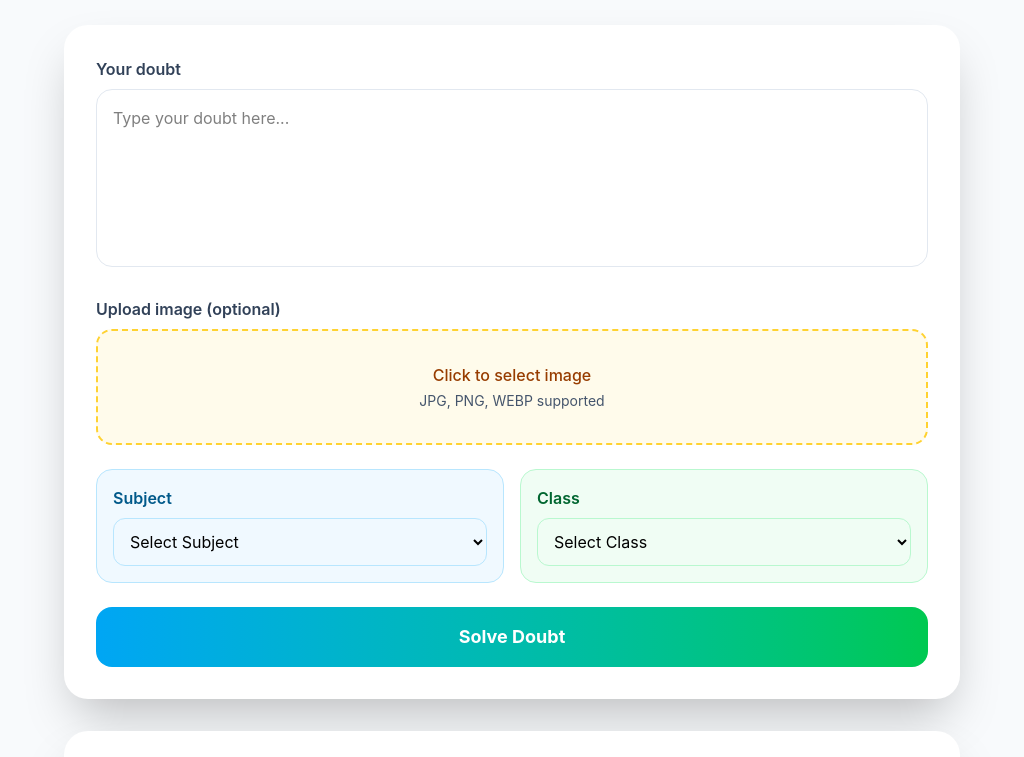
Test case: AskDoubt › shows API error state when solve fails
Expected: the button "Solve Doubt" is enabled, [96,607,928,667]
In the text box with placeholder "Type your doubt here...": (512, 178) [96,89,928,267], type "Hard question"
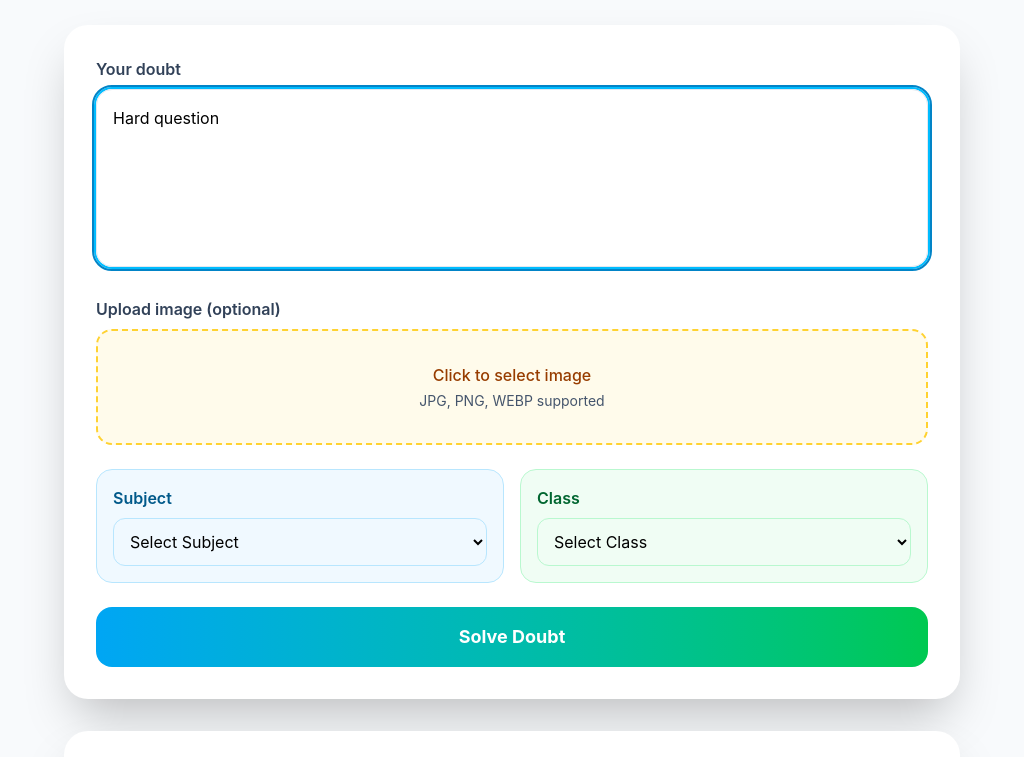
Select "Mathematics" in the dropdown labelled "Subject": (300, 542) [113,518,487,566]
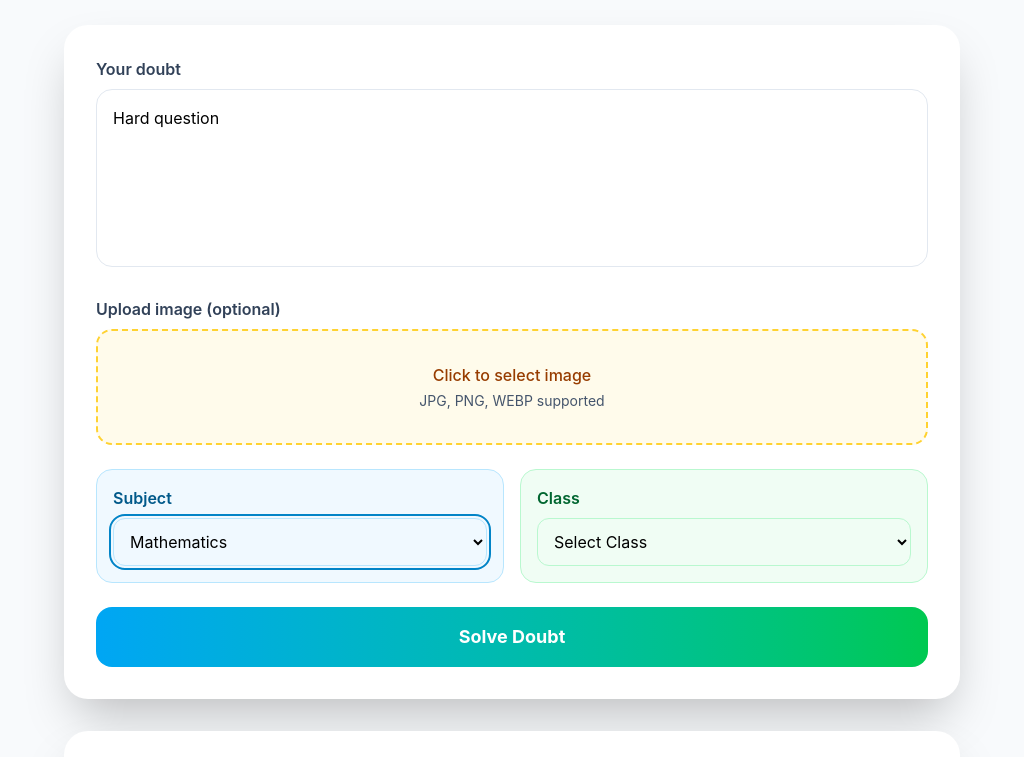
Select "Class 8" in the dropdown labelled "Class": (724, 542) [537,518,911,566]
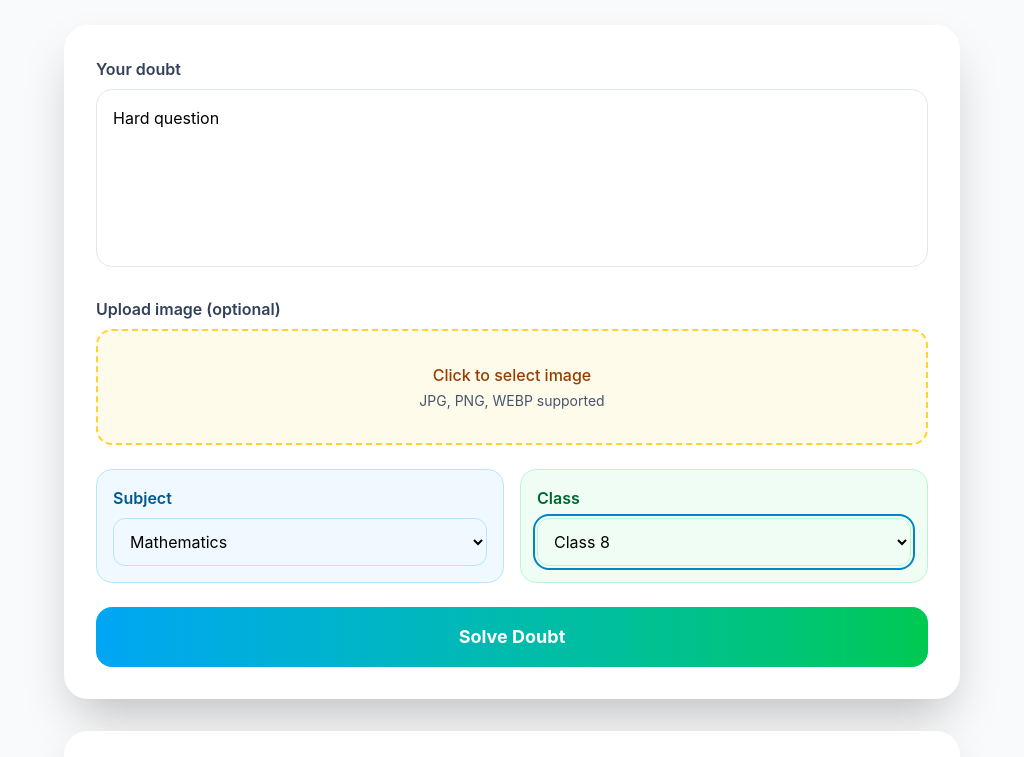
Click the button "Solve Doubt": (512, 637) [96,607,928,667]
(page scrolled)
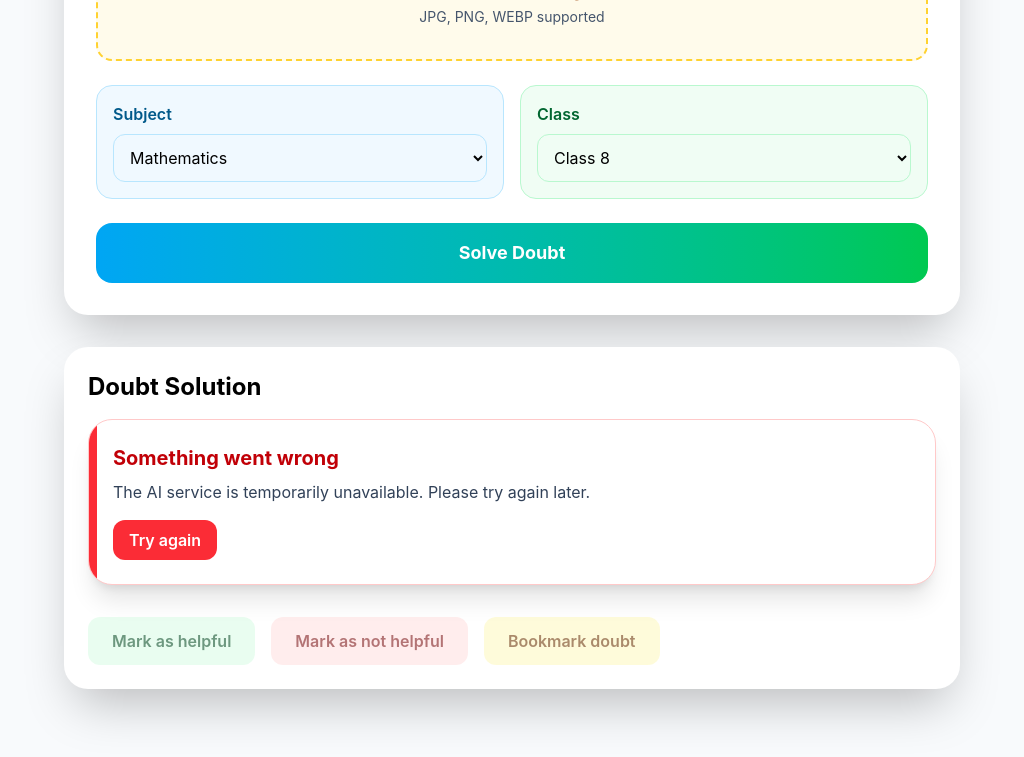
Now the text "The AI service is temporarily unavailable. Please try again later." is shown, box [113,482,590,502]
Now the message is shown, box [88,419,936,585]
